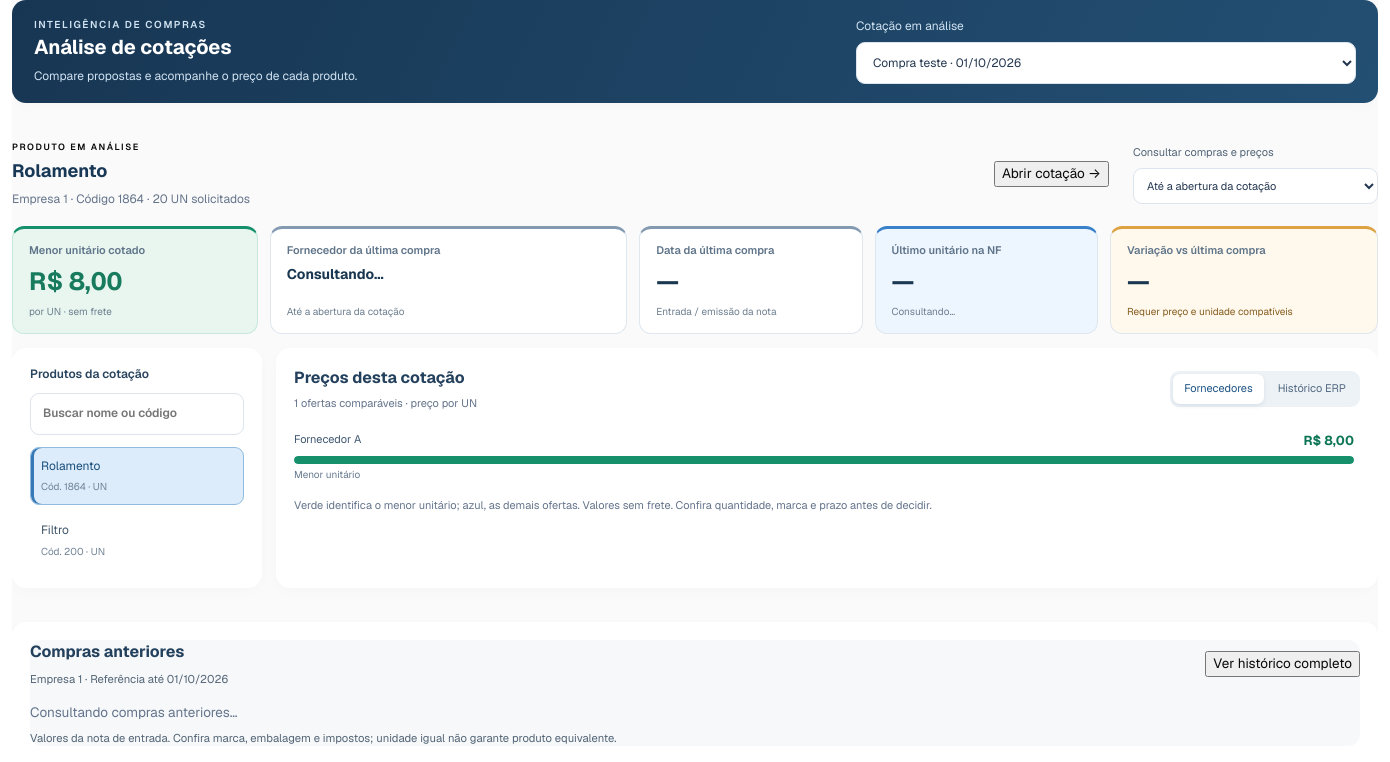
mostra unitários e totais das compras em PC mesmo sem pontos comparáveis em UN
The width and height of the screenshot is (1390, 762).
Click the button "Histórico ERP". click: click(1312, 389)
box: [1267,374,1357,404]
(page scrolled)
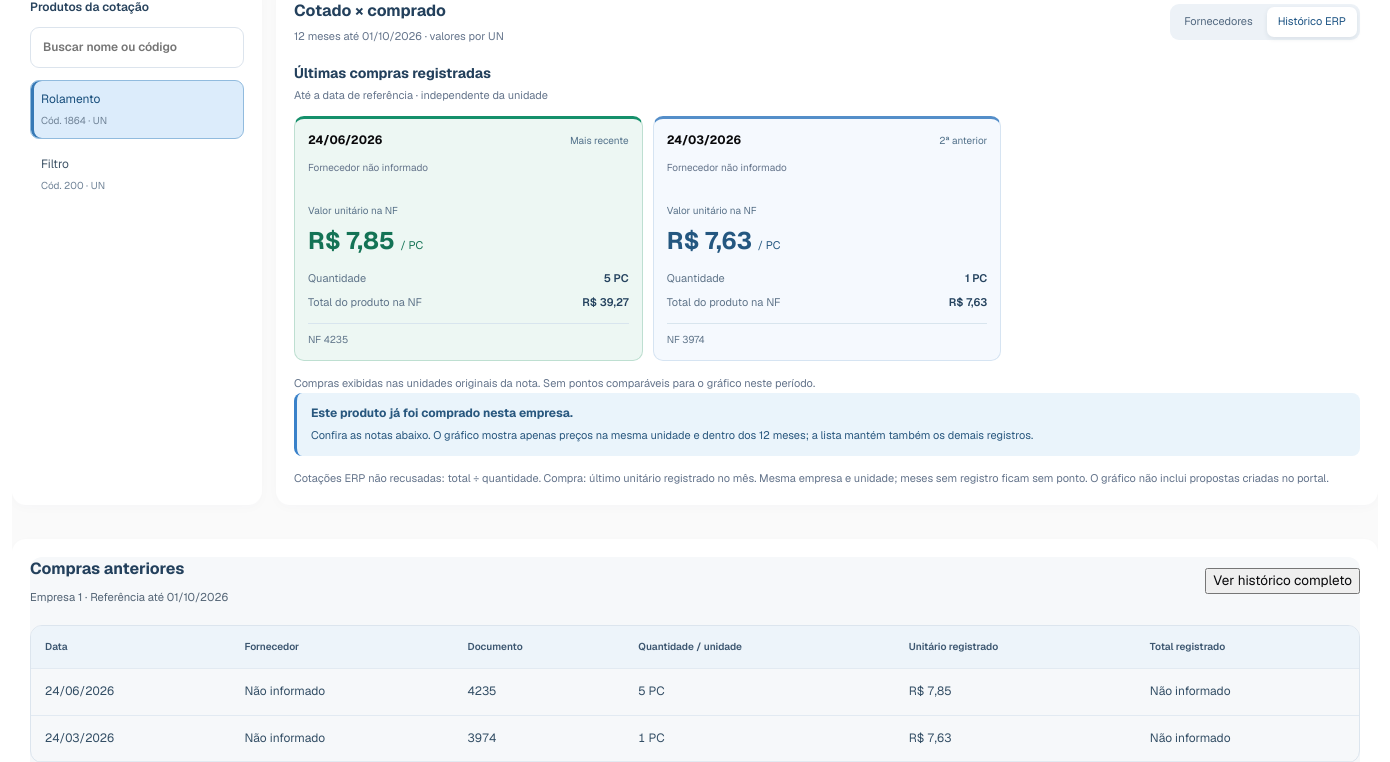
Expected: the text "R$ 39,27" is shown, [582,295,629,311]
Expected: the text "R$ 7,85 / PC" is shown, [308,225,423,256]
Expected: the element that starts with "Mais recente" shows "4235", [324,333,348,346]
